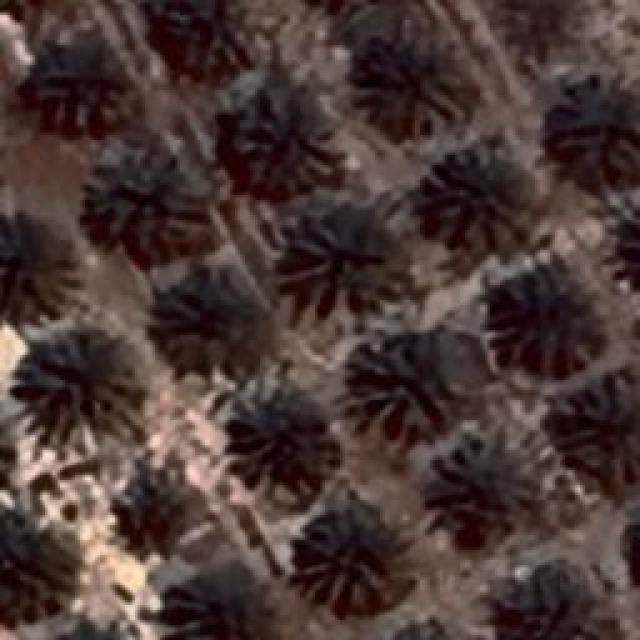PalmTree: (79, 25, 541, 114), (12, 330, 146, 452), (80, 154, 215, 258), (226, 96, 344, 206), (222, 385, 336, 493), (154, 276, 282, 372), (280, 210, 402, 308), (360, 28, 462, 140), (345, 342, 460, 436), (144, 562, 268, 640), (292, 510, 386, 608), (555, 82, 640, 190), (35, 42, 140, 128), (560, 370, 638, 482), (432, 156, 536, 239), (488, 284, 592, 366), (504, 565, 614, 640), (432, 438, 540, 512), (0, 226, 70, 329), (120, 474, 202, 546), (164, 0, 248, 68), (614, 202, 640, 294), (33, 619, 145, 640), (368, 618, 474, 640), (0, 389, 18, 500), (0, 387, 15, 506), (621, 202, 640, 295), (368, 624, 473, 640), (38, 625, 149, 640), (624, 495, 640, 596), (0, 388, 12, 504), (39, 629, 144, 640), (630, 498, 640, 596)
